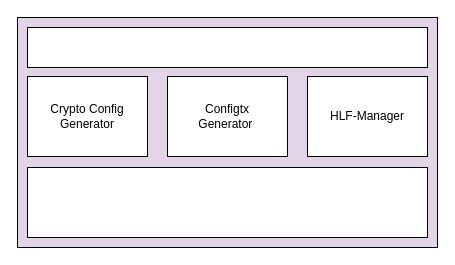
Some shapes in this 455 by 265 pixel diagram are drawn without their labels. The shapes that lost their labels are listed below. From the top down, each one's centre as x and y in pixels, then its label:
At pixel 227 47: "HLF-CLI".
At pixel 227 202: "HLF Binaries".
